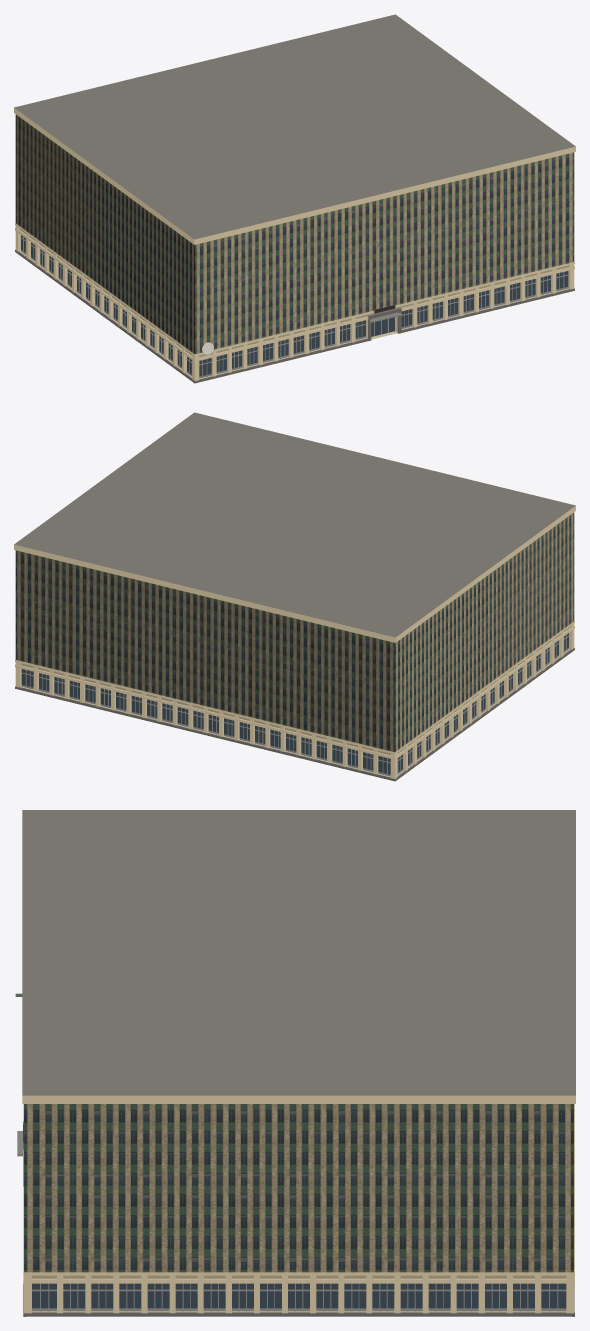
File: macys_bon_marche.glb
The picture shows the model from 3 angles, top to bottom: view 1: azimuth 30°, elevation 25°; view 2: azimuth 150°, elevation 25°; view 3: azimuth 270°, elevation 25°; orthographic projection. The views are drawn at different scales.
Parts seen in each view (by area): view 1: macys_bon_marche; view 2: macys_bon_marche; view 3: macys_bon_marche.
Part boxes in pixels (box(x1,y1,x2,y2)): macys_bon_marche: box(14, 14, 575, 383); macys_bon_marche: box(14, 412, 575, 781); macys_bon_marche: box(15, 810, 575, 1316).
Size of the model in its own units: 111 by 39.99 by 91.95.
2 materials, 2 textured.
